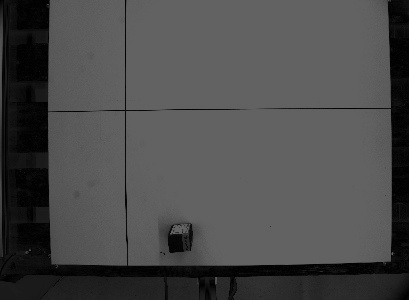b3: (165, 221, 195, 255)
